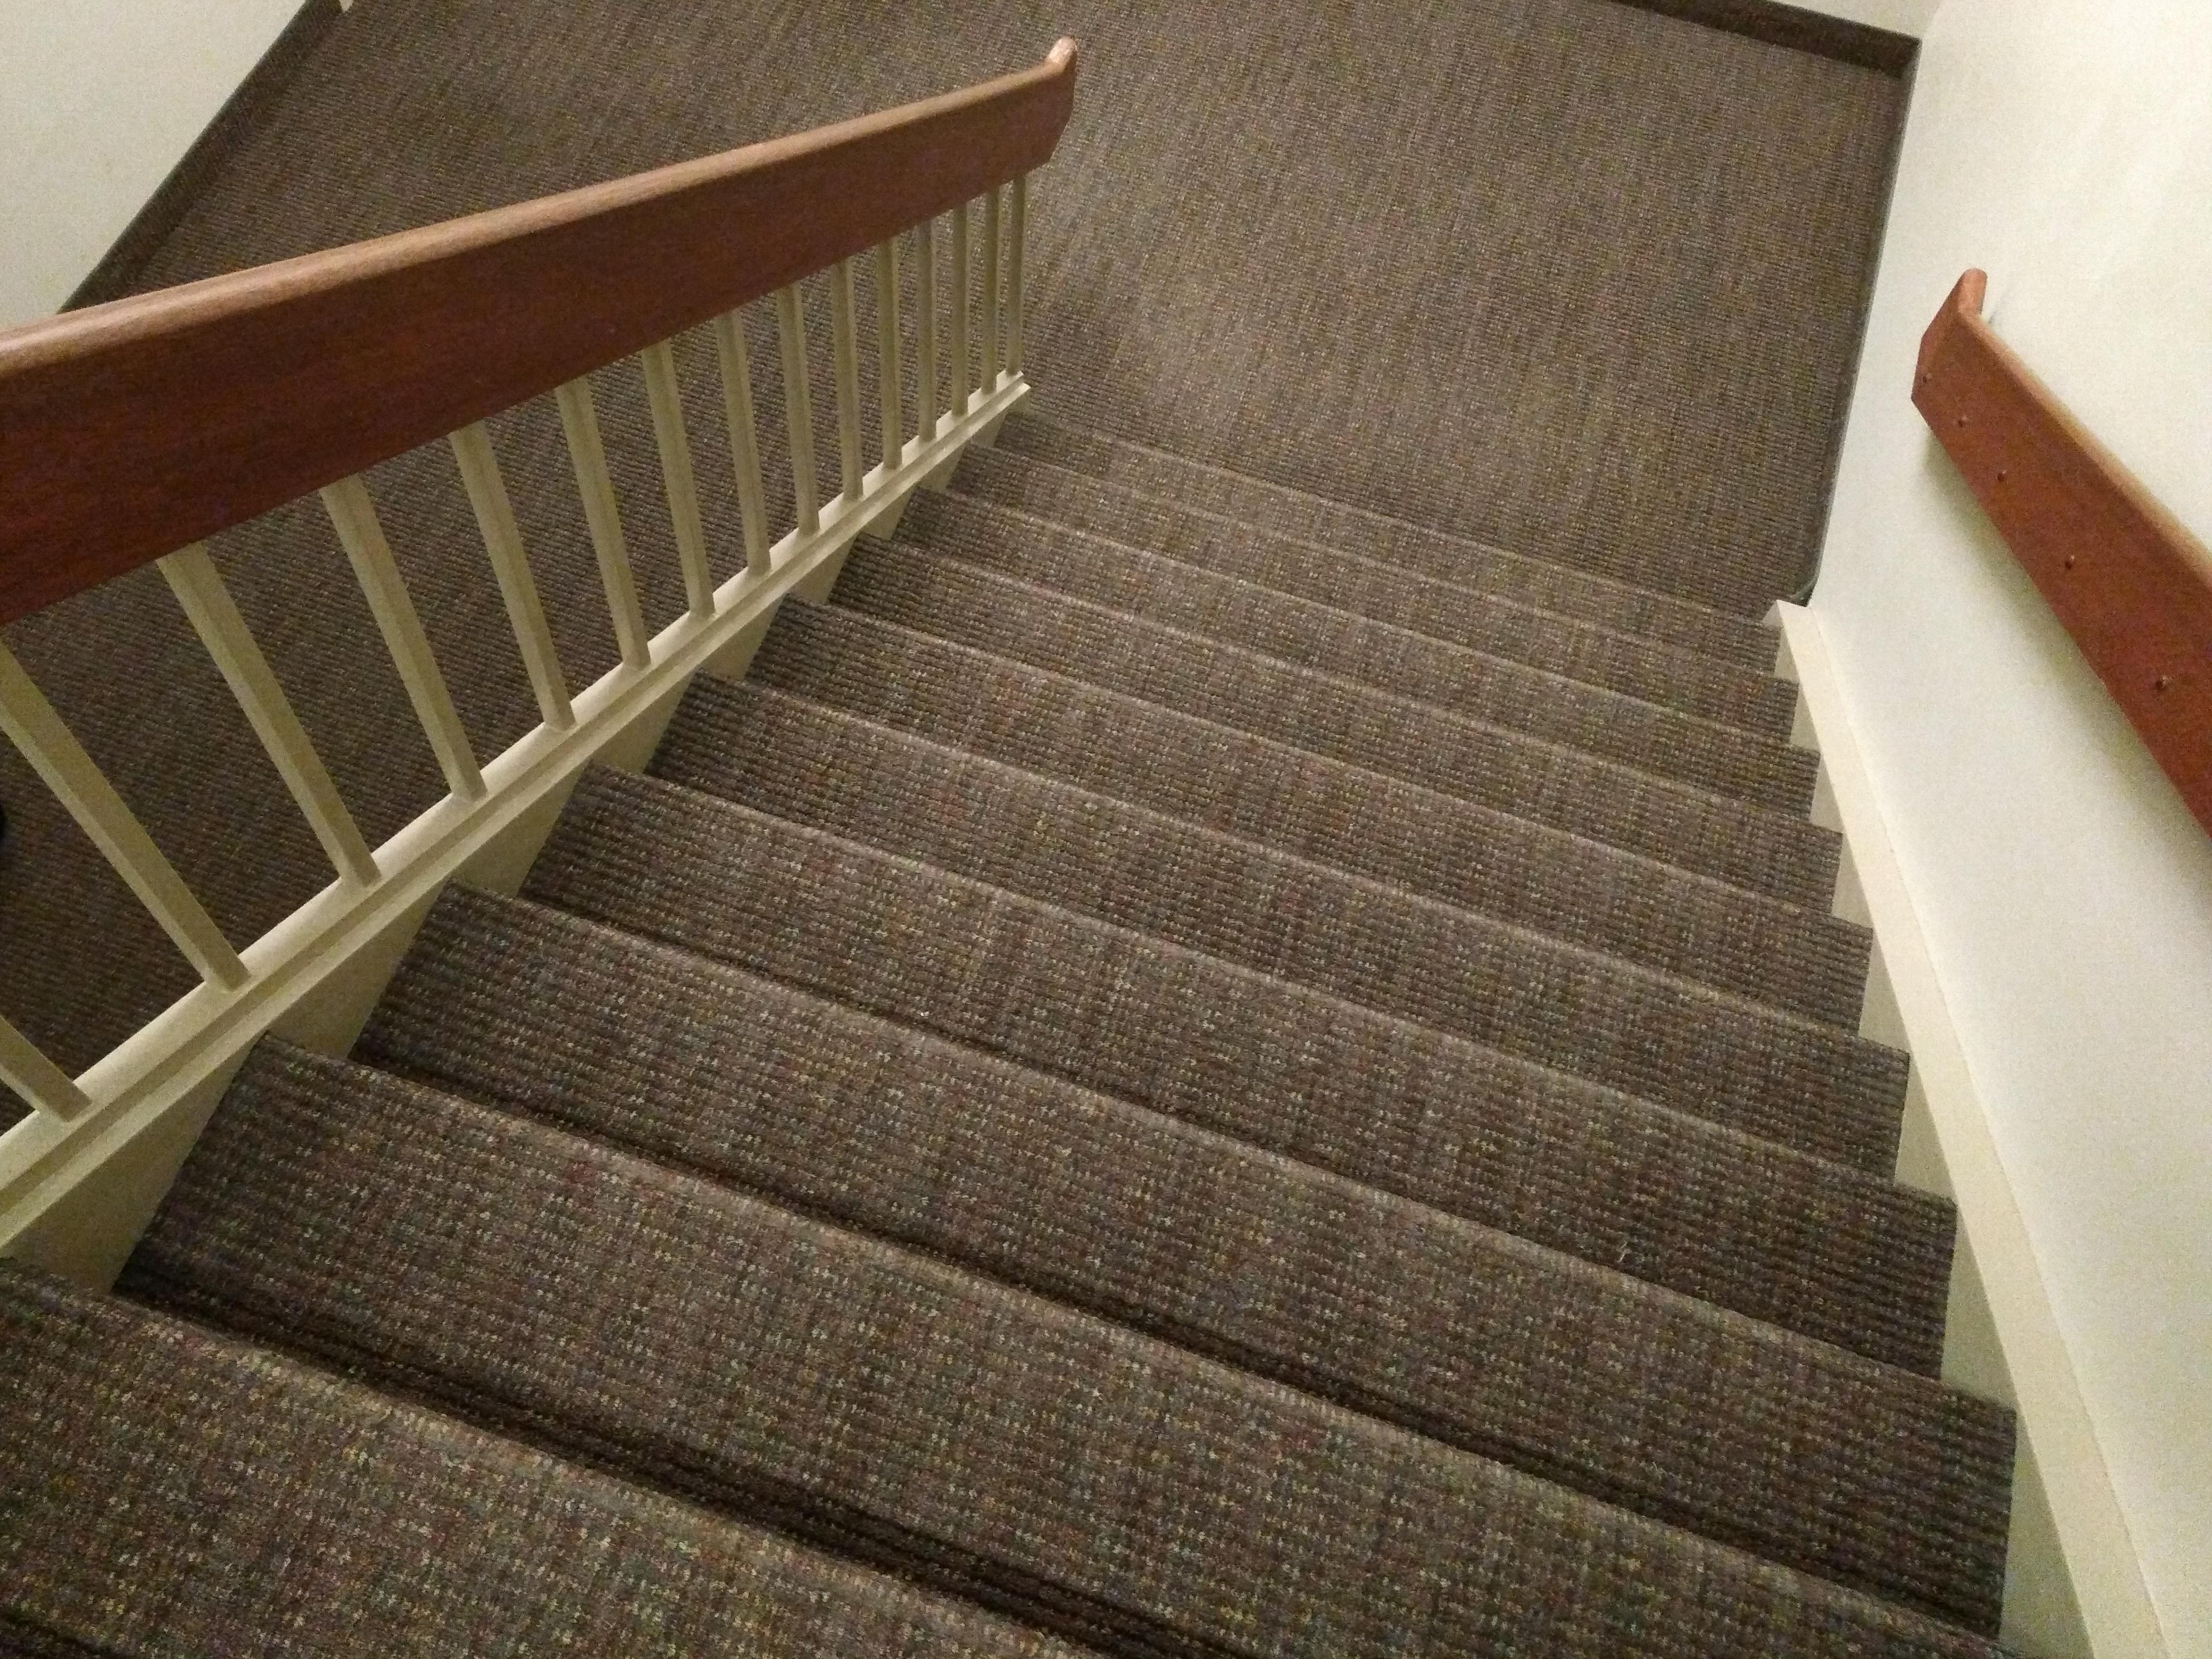stairs_down: (108, 404, 2043, 1659)
